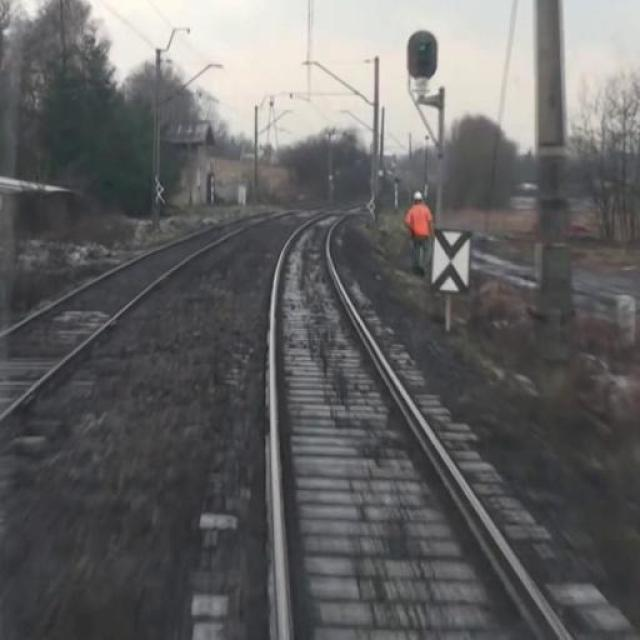people: (401, 188, 438, 279)
